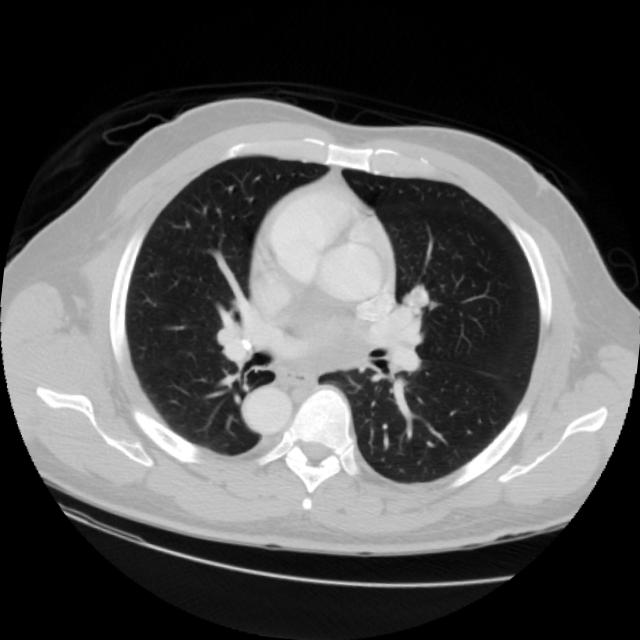nodule: (390, 270, 444, 325)
